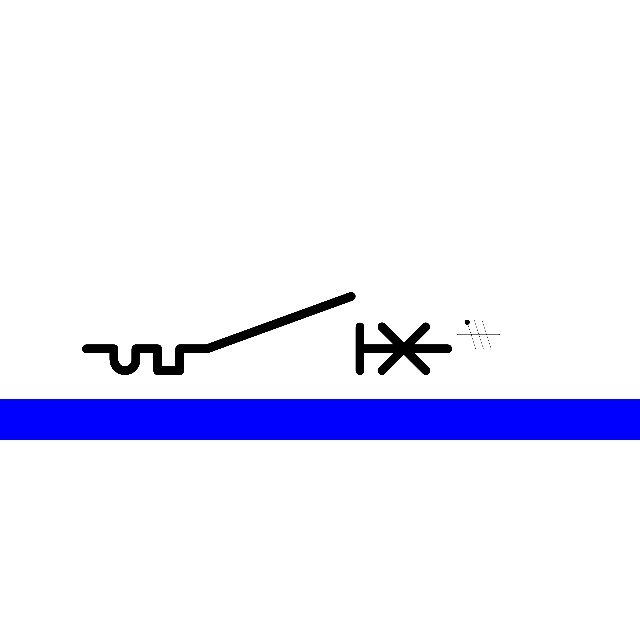interruptor_termomagnetico: (77, 287, 457, 380)
